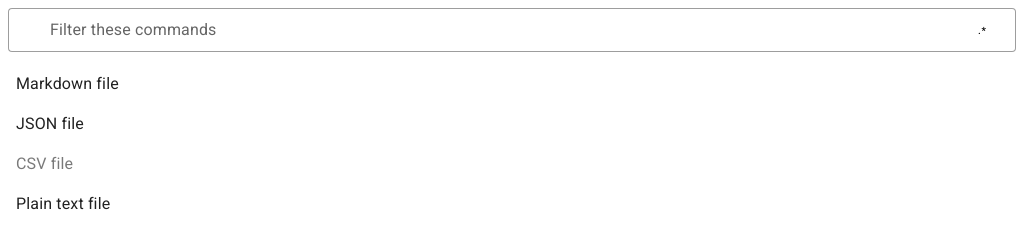
Test case: Escape, in two steps › clears the query first, and keeps the list open and unfiltered
In the search field labelled "Filter these commands": (480,28) left=44, top=8, right=916, bottom=48, type "json"
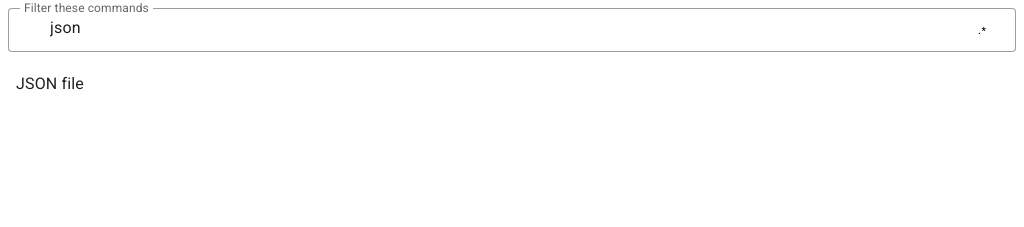
Expected: the text "Markdown file" is gone
Press Escape in the search field labelled "Filter these commands", box left=44, top=8, right=872, bottom=48
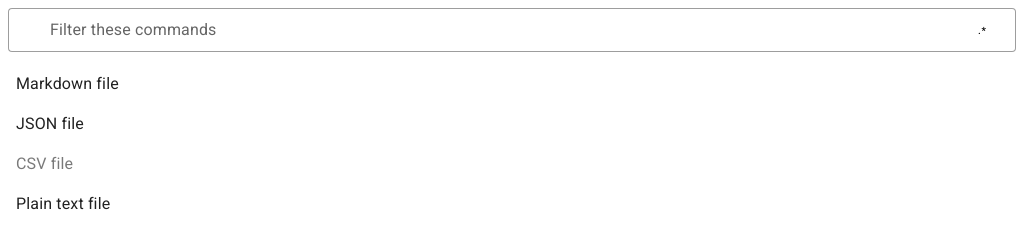
Expected: the search field labelled "Filter these commands" is empty, left=44, top=8, right=916, bottom=48
Expected: the text "Markdown file" is shown, left=16, top=74, right=119, bottom=93
